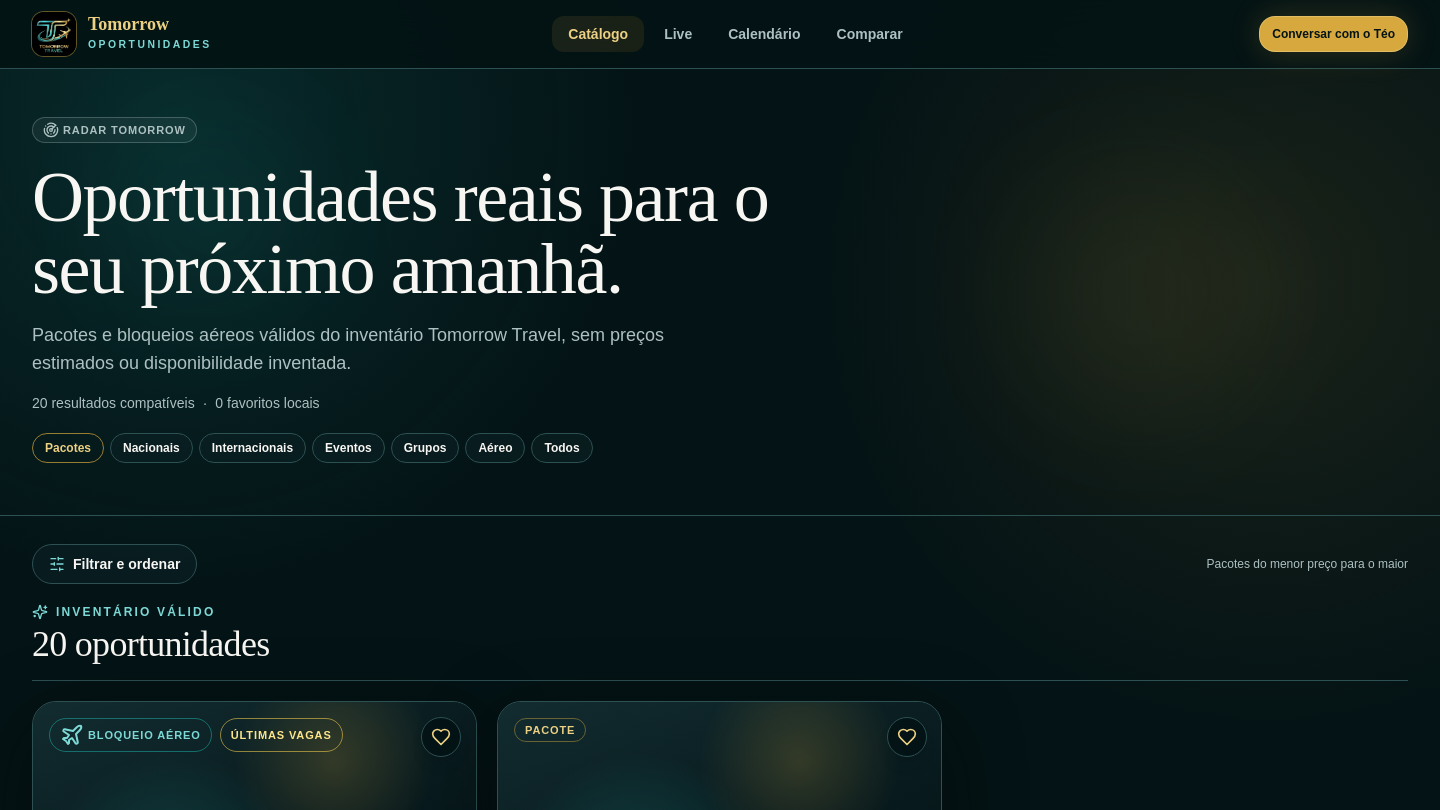
Test case: Catálogo de oportunidades › envia filtros compatíveis ao contrato e fecha o diálogo após aplicar
This screenshot has width=1440, height=810.
Click the button "Filtrar e ordenar": (115, 564) [32, 544, 197, 584]
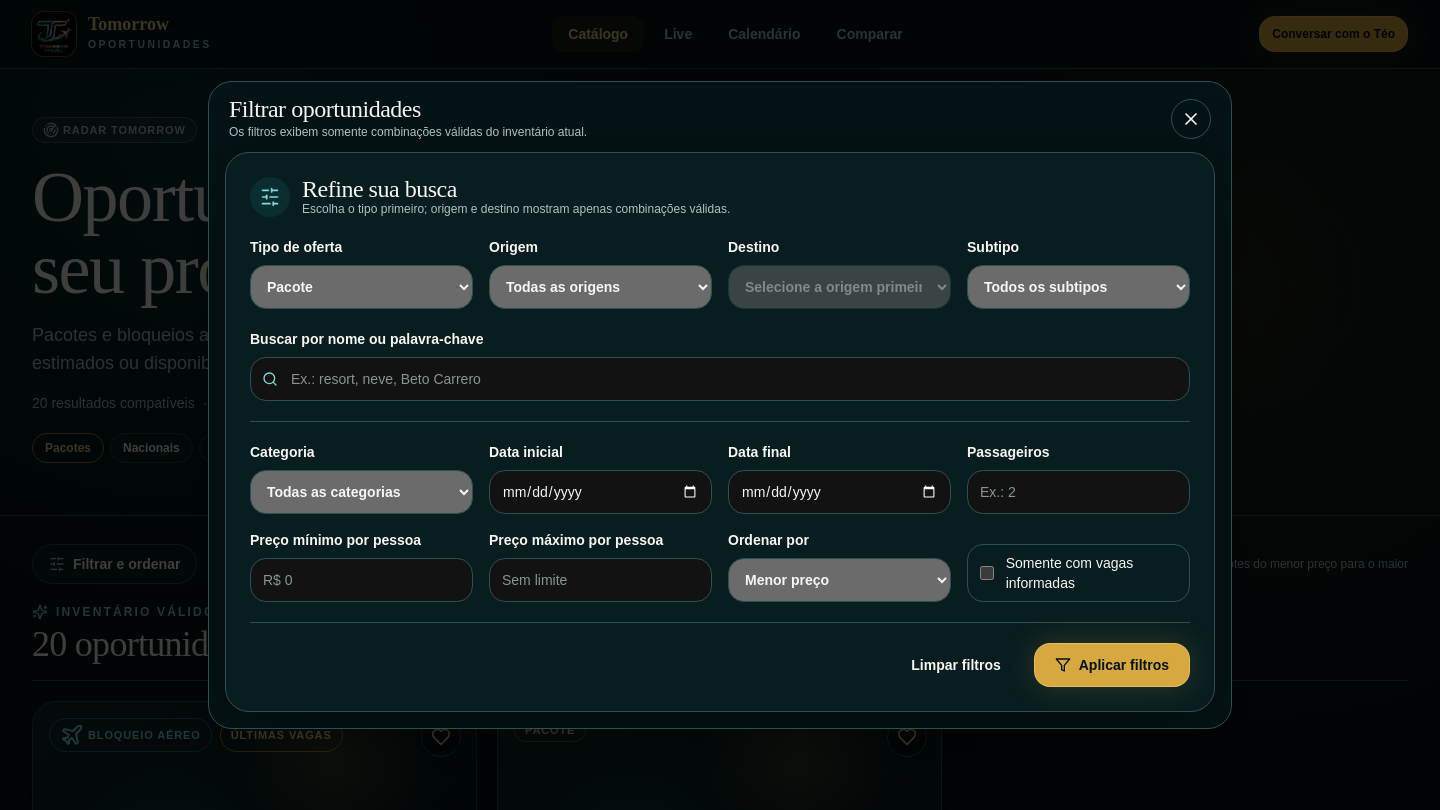
Select "Belém (120)" in the dropdown labelled "Origem": (600, 287) [489, 265, 712, 309]
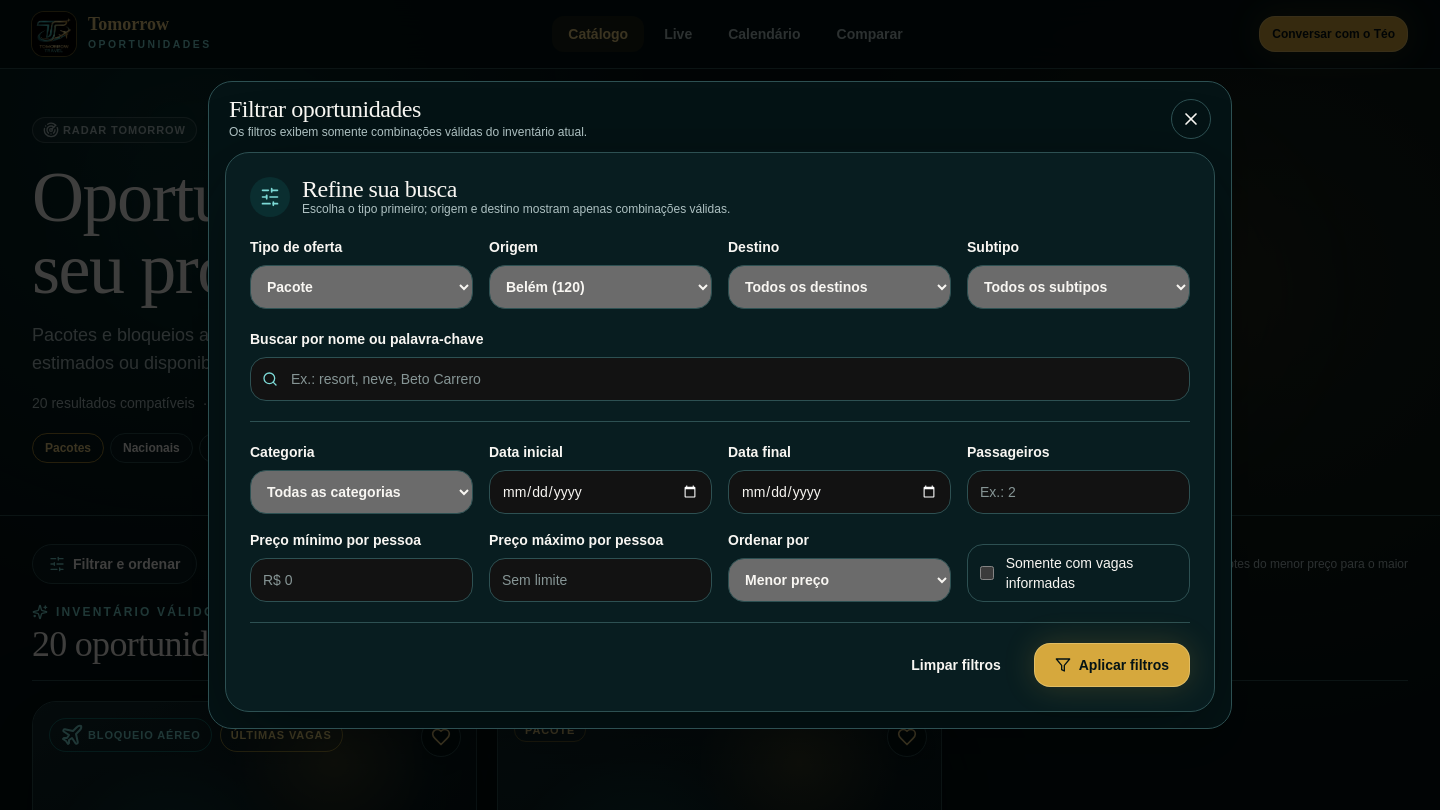
In the number field labelled "Passageiros": (1078, 492) [967, 470, 1190, 514], type "2"
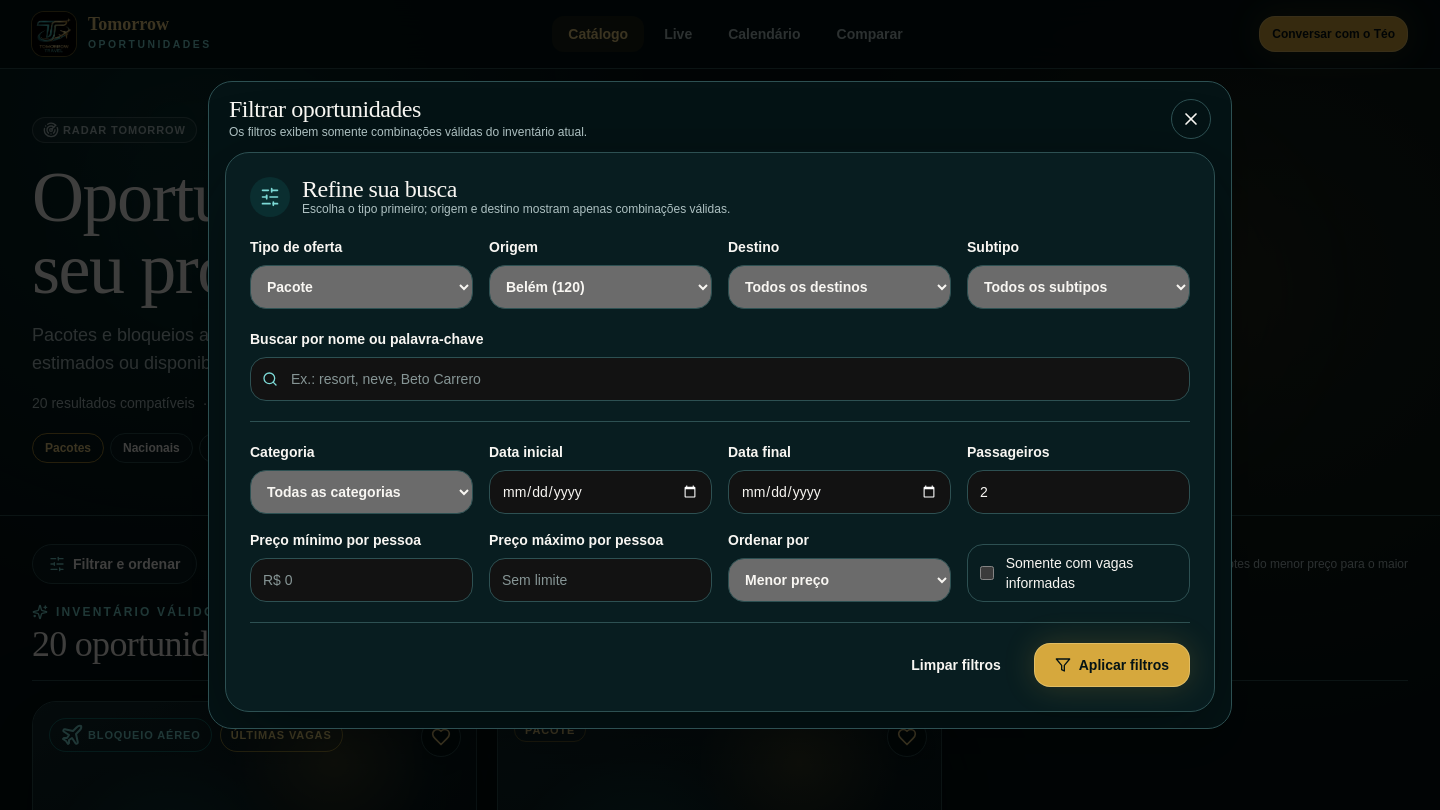
Click the button "Aplicar filtros": (1112, 665) [1034, 643, 1190, 687]
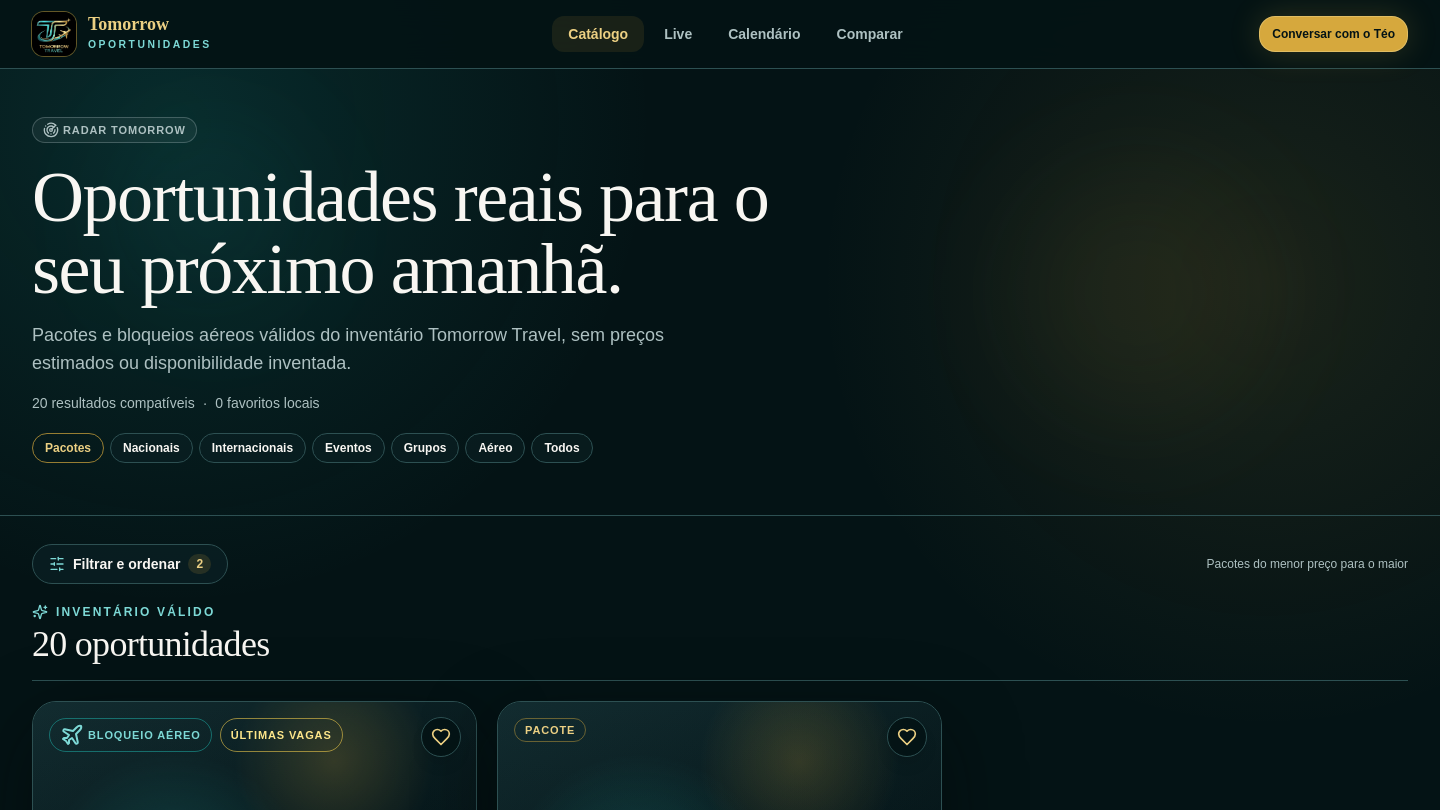
Expected: the text "Filtrar oportunidades" is gone
